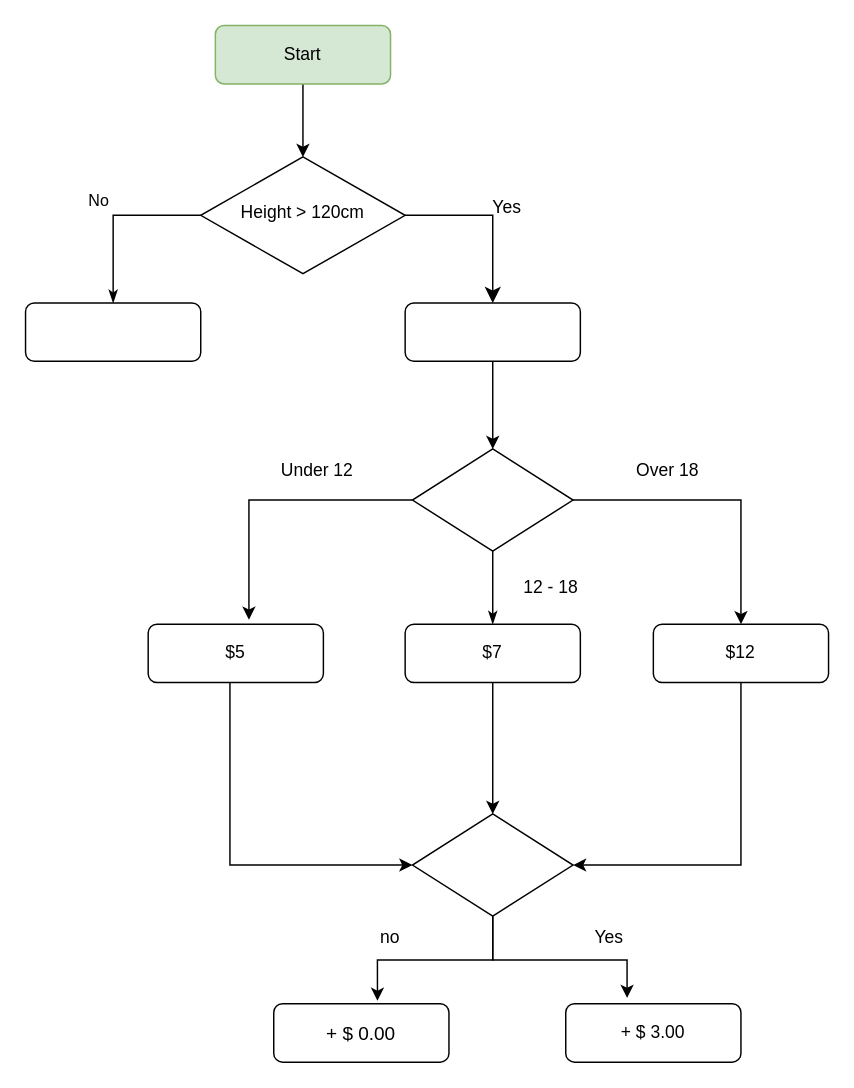
The diagram is 854 pixels wide and 1088 high, and some of its shapes have lost their labels. The shapes that lost their labels are listed below. From the top down, each one's centre as x and y in pixels, then its label:
At pixel 112 331: "Can't Ride".
At pixel 492 331: "Can ride".
At pixel 492 499: "Age".
At pixel 492 864: "Pic?".
